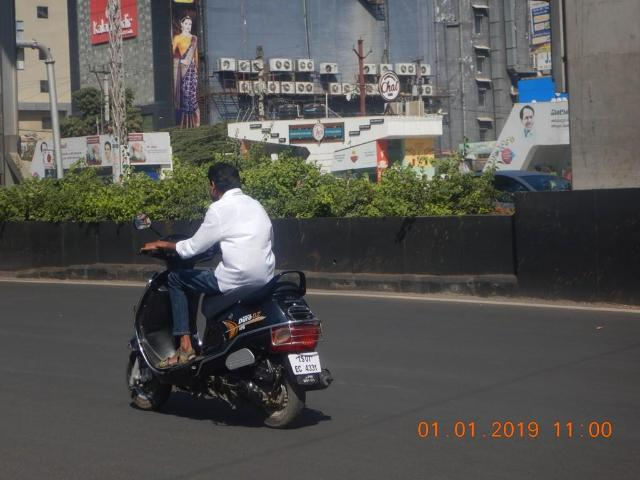motor: (123, 209, 338, 431)
non-helm: (206, 159, 246, 202)
